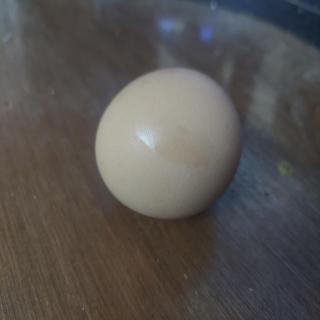Telur: (92, 66, 246, 226)
